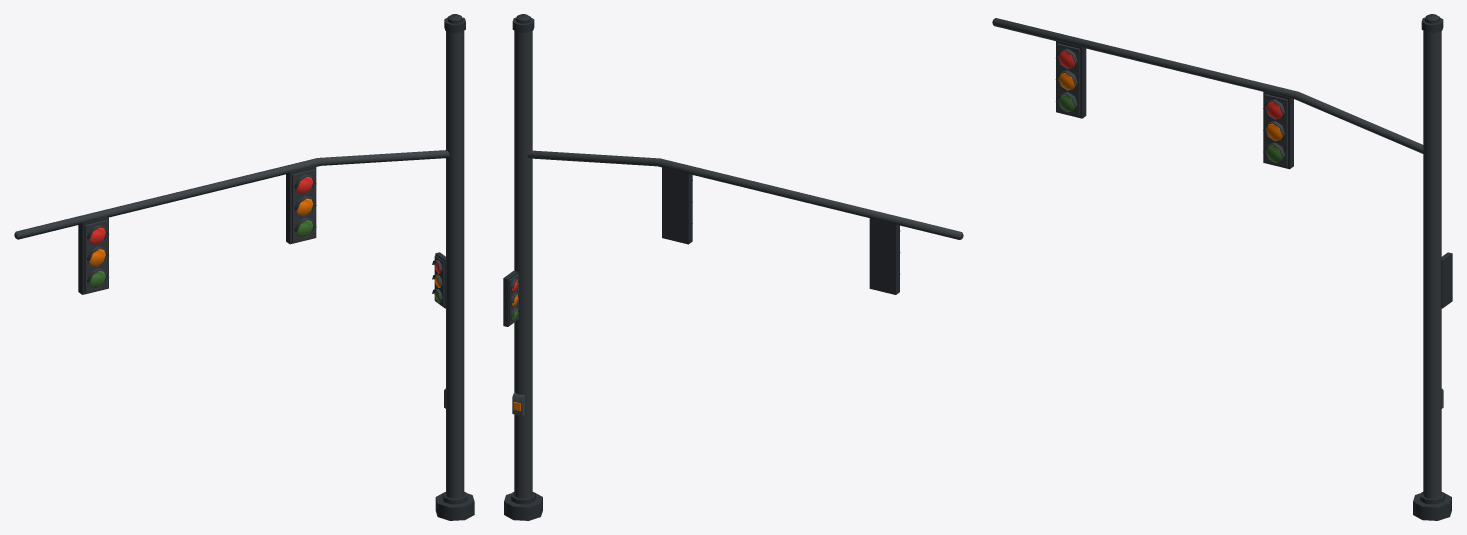
File: SM_FloorProps_TrafficLight_02.fbx
3 views of the same model, side by side, from view 1: azimuth 30°, elevation 25°; view 2: azimuth 150°, elevation 25°; view 3: azimuth 330°, elevation 25° (orthographic).
Visible parts, largest first — view 1: SM_FloorProps_TrafficLight_02; view 2: SM_FloorProps_TrafficLight_02; view 3: SM_FloorProps_TrafficLight_02.
Part boxes in pixels (<box>): SM_FloorProps_TrafficLight_02: <box>14,14,474,520</box>; SM_FloorProps_TrafficLight_02: <box>503,14,963,520</box>; SM_FloorProps_TrafficLight_02: <box>992,14,1452,520</box>.
Size of the model in its own units: 5.33 by 5.54 by 0.5627.
